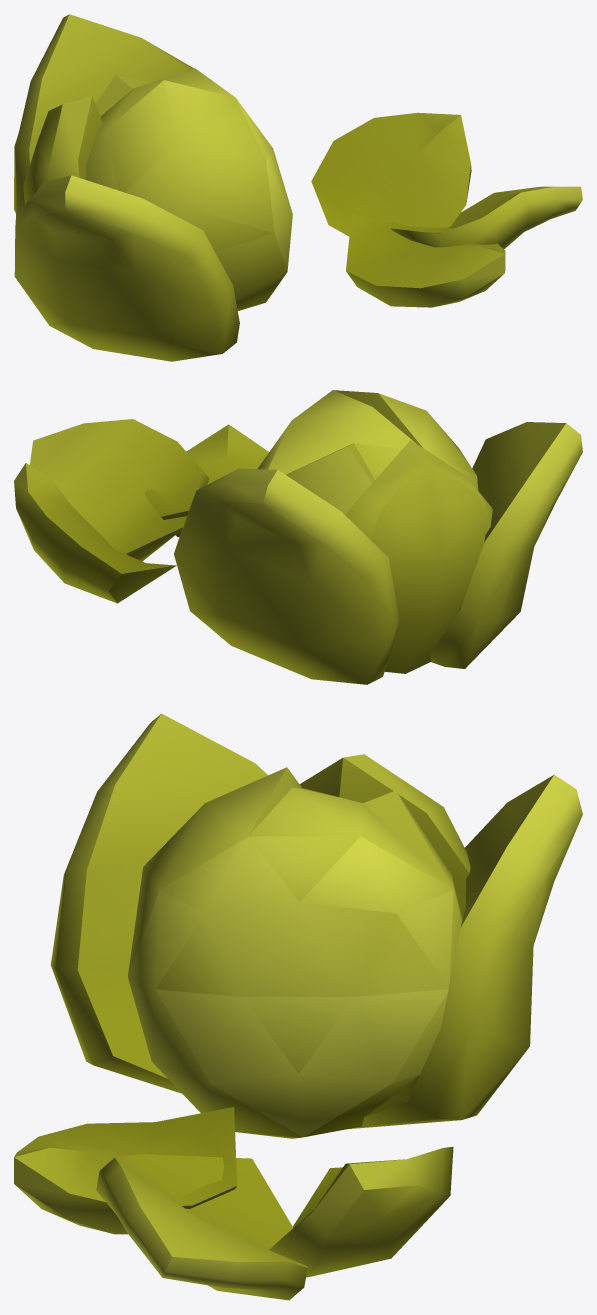
The model's file is Lettuce cut.glb.
3 views of the same model, one above another, from view 1: azimuth 30°, elevation 25°; view 2: azimuth 150°, elevation 25°; view 3: azimuth 270°, elevation 25° (orthographic). The views are drawn at different scales.
Parts seen in each view (by area): view 1: food_ingredient_lettuce_chopped; view 2: food_ingredient_lettuce_chopped; view 3: food_ingredient_lettuce_chopped.
Part boxes in pixels (box(x1,y1,x2,y2)): food_ingredient_lettuce_chopped: box(14, 14, 582, 361); food_ingredient_lettuce_chopped: box(14, 390, 582, 684); food_ingredient_lettuce_chopped: box(14, 713, 582, 1300).
Bounding box in the file's own units: 1.8 × 0.8088 × 1.21.
1 material, 1 textured.
